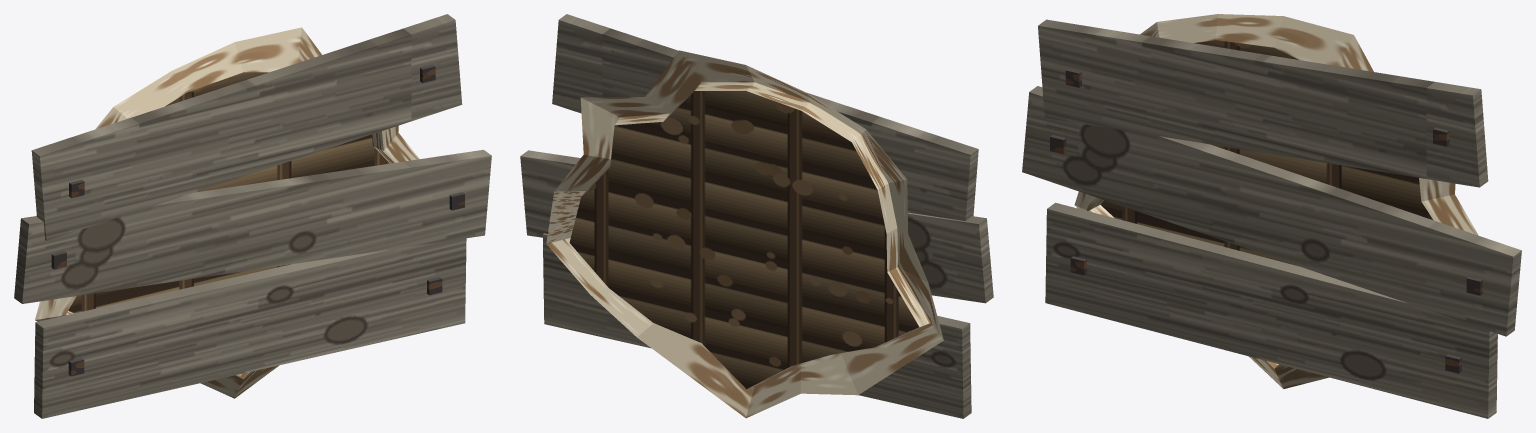
Rendered from SE_Patch_Boards.glb.
The picture shows the model from 3 angles, left to right: view 1: azimuth 30°, elevation 25°; view 2: azimuth 150°, elevation 25°; view 3: azimuth 330°, elevation 25°; orthographic projection. The views are drawn at different scales.
Parts seen in each view (by area): view 1: SE_Patch_Boards; view 2: SE_Patch_Boards; view 3: SE_Patch_Boards.
Boxes of the visible parts, x1=… form: SE_Patch_Boards: x1=14, y1=14, x2=491, y2=418; SE_Patch_Boards: x1=520, y1=14, x2=993, y2=418; SE_Patch_Boards: x1=1022, y1=14, x2=1521, y2=418.
Bounding box in the file's own units: 0.8667 × 0.6289 × 0.072.
Materials: 1 (1 with a texture image).
